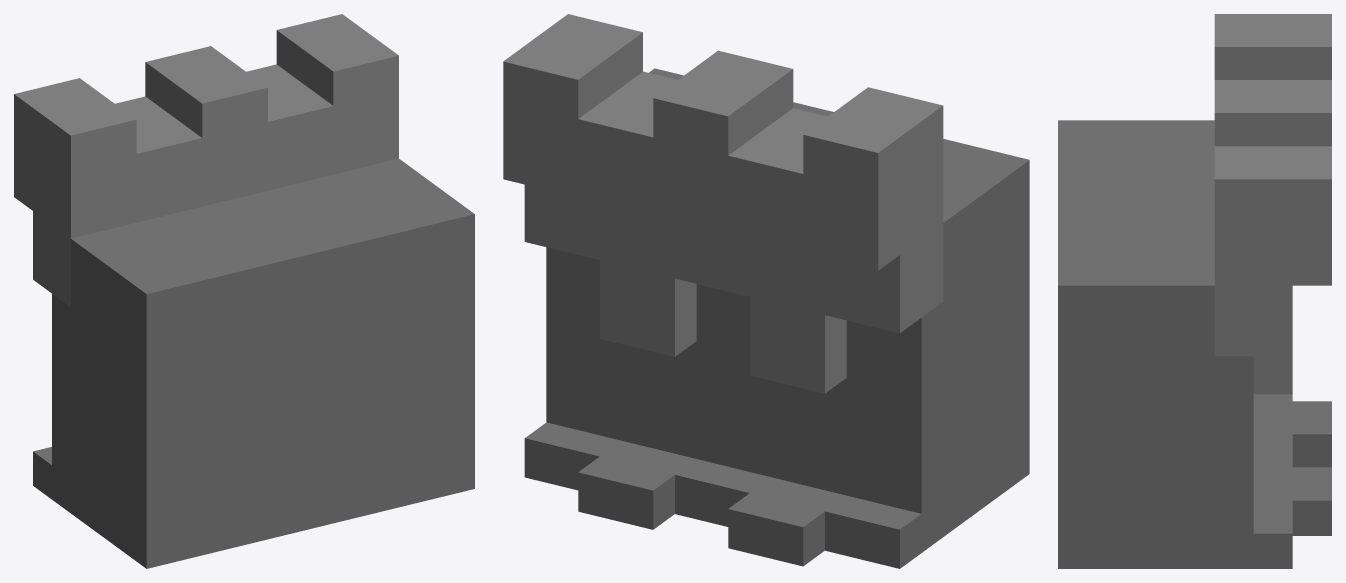
File: wall2.obj
3 views of the same model, side by side, from view 1: azimuth 30°, elevation 25°; view 2: azimuth 150°, elevation 25°; view 3: azimuth 270°, elevation 25° (orthographic). The views are drawn at different scales.
Size of the model in its own units: 10 by 11 by 7.
Materials: 1 (1 with a texture image).
